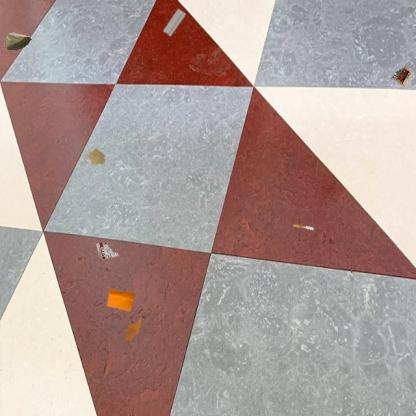dirty: (162, 7, 188, 37), (2, 31, 34, 53), (106, 288, 135, 312), (389, 64, 415, 89), (95, 239, 118, 260), (292, 221, 315, 232)
liquid: (84, 147, 106, 166), (125, 316, 141, 342)
